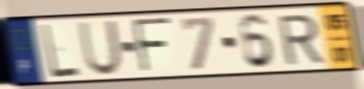6: (239, 12, 276, 71)
7: (179, 14, 217, 73)
F: (130, 16, 174, 76)
L: (39, 22, 82, 80)
R: (276, 12, 326, 67)
U: (76, 18, 124, 77)
